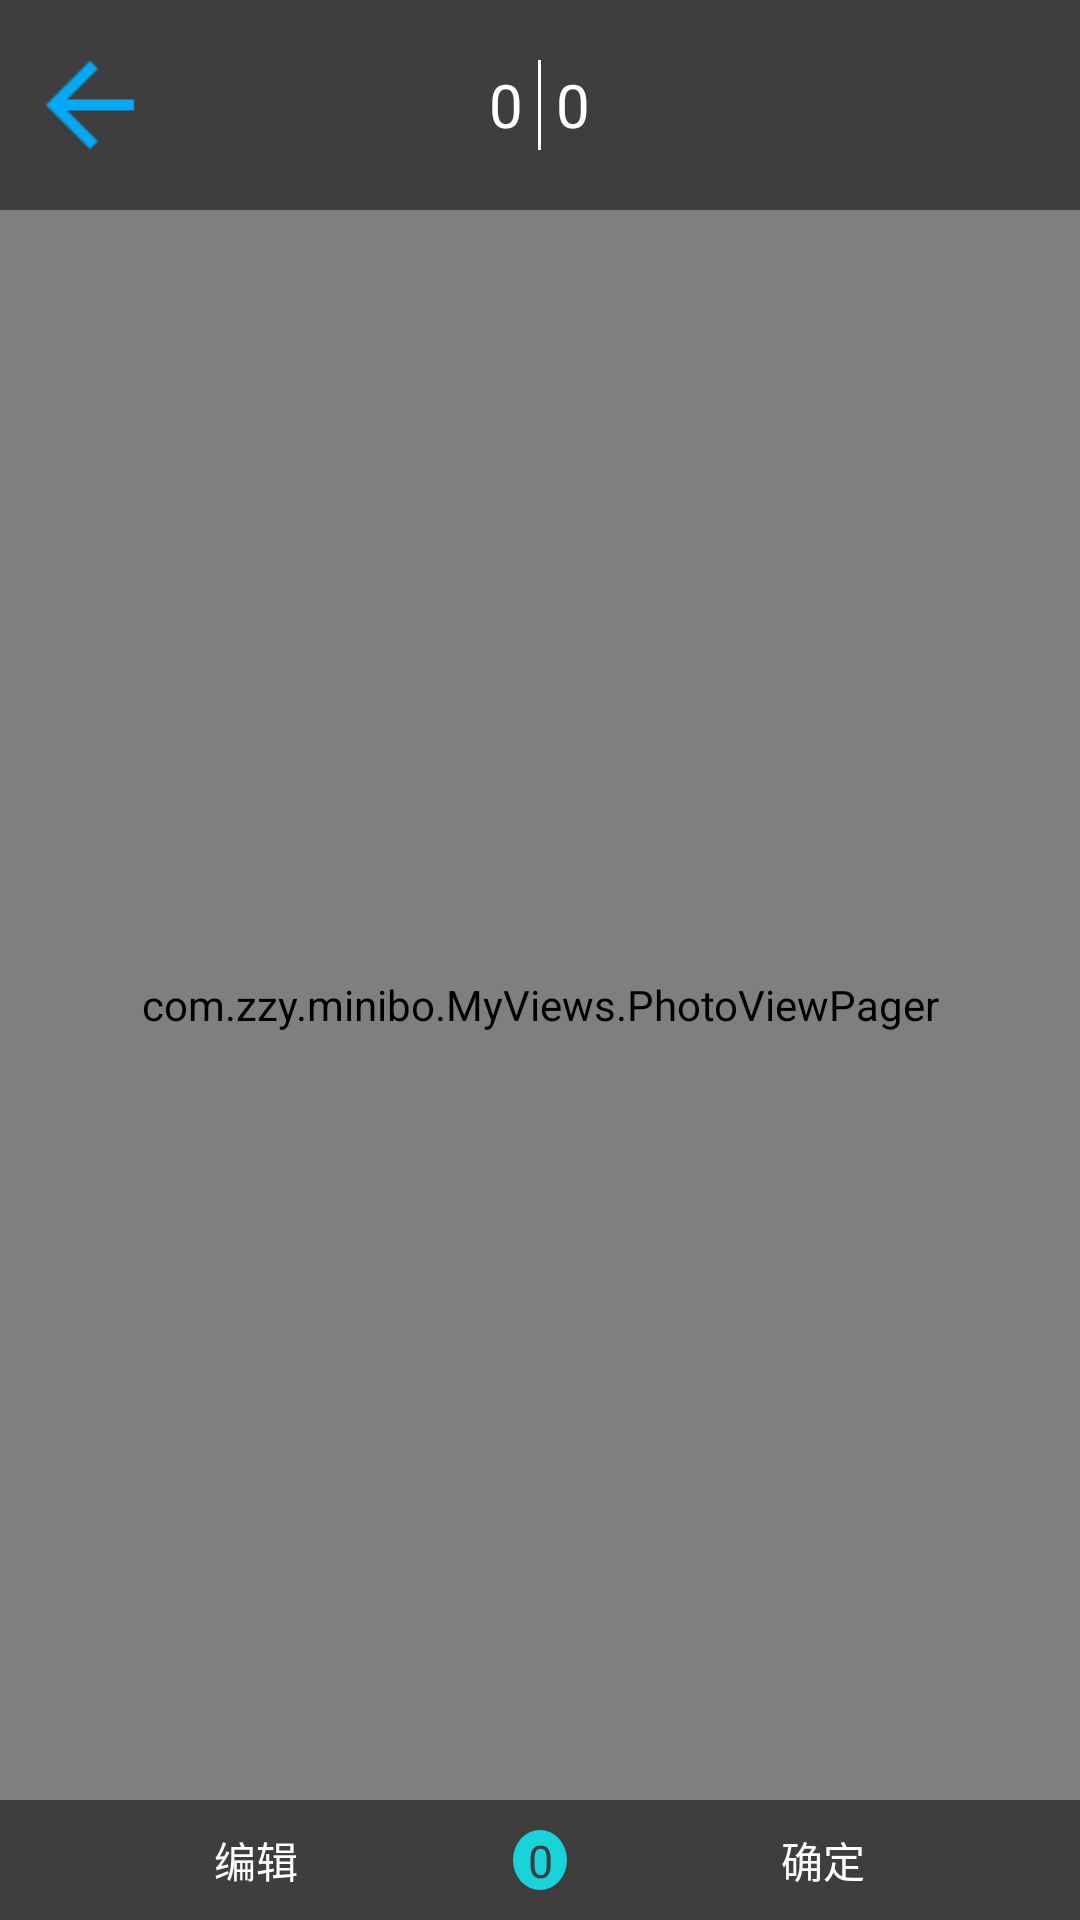

Screen size 1080px x 1920px. Icon name, then its box in pixels as (x1, y1, x2, y2):
arrow back: (46, 61, 135, 149)
